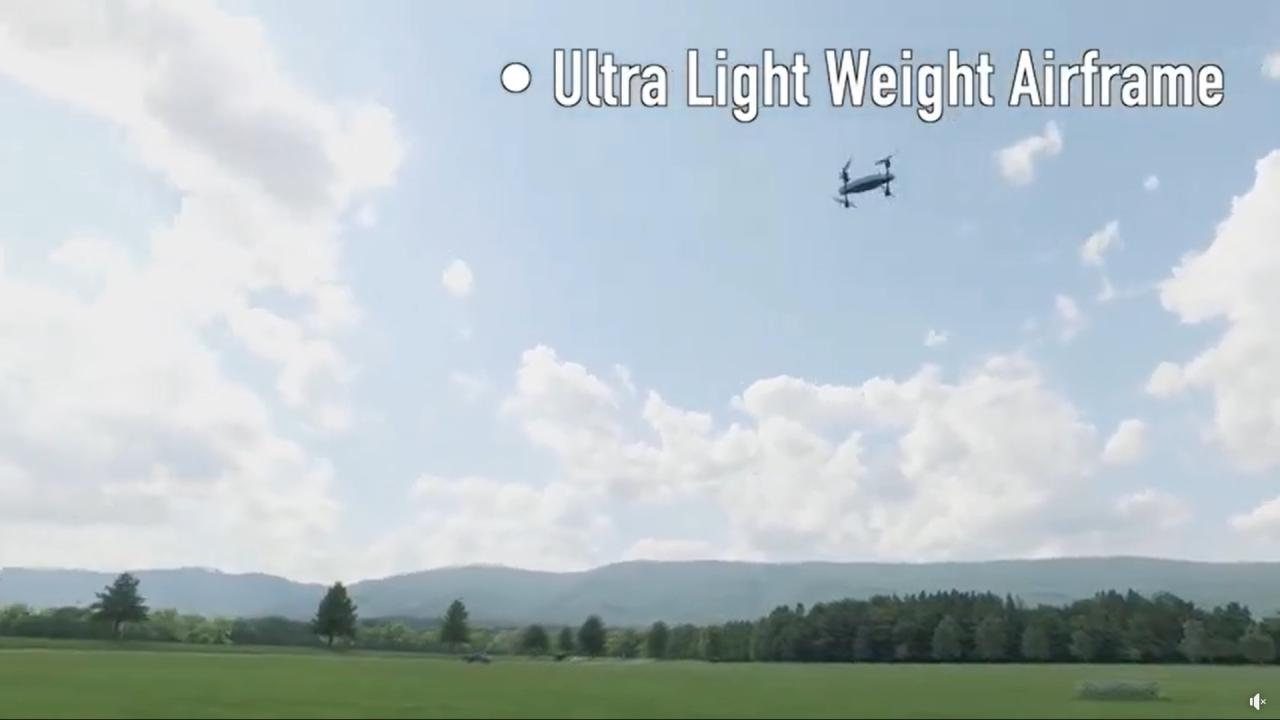Drone: (826, 141, 909, 218)
